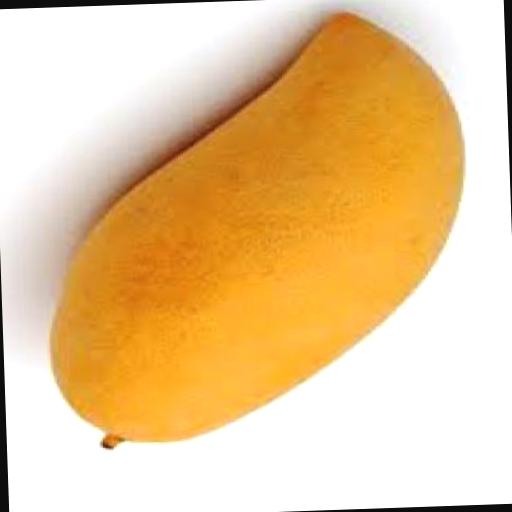biodegradable: (38, 10, 472, 453)
